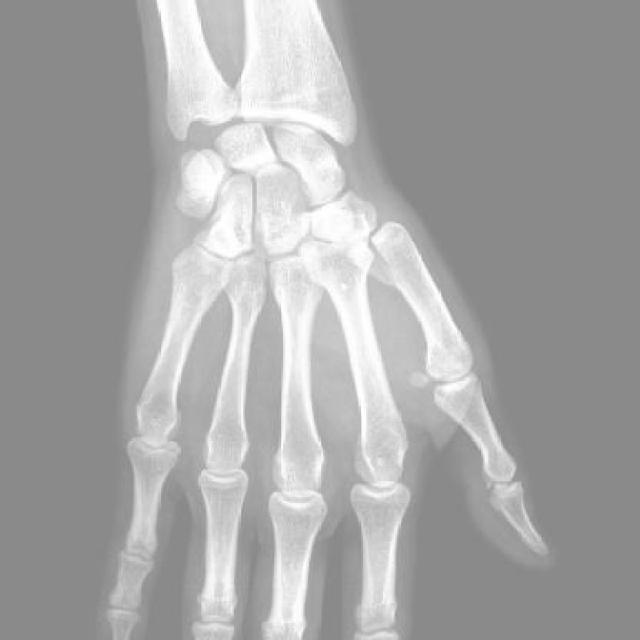Fracture: (349, 229, 411, 289)
